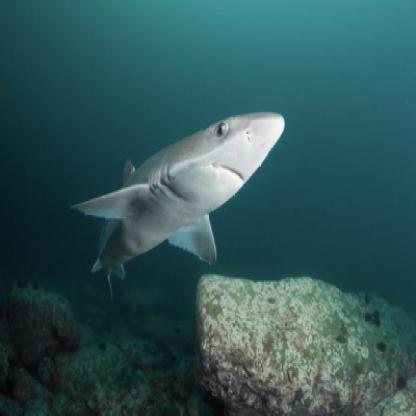shark: (67, 101, 288, 303)
